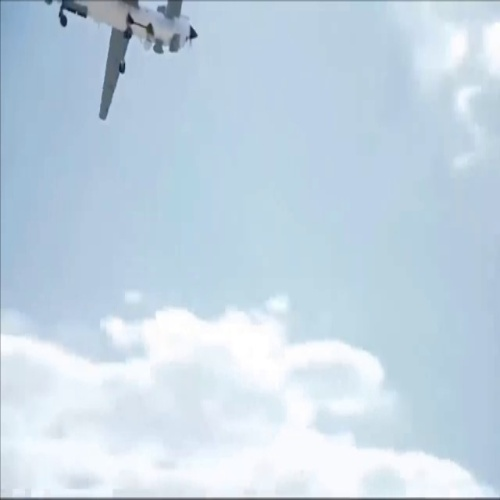uav: (38, 1, 198, 122)
